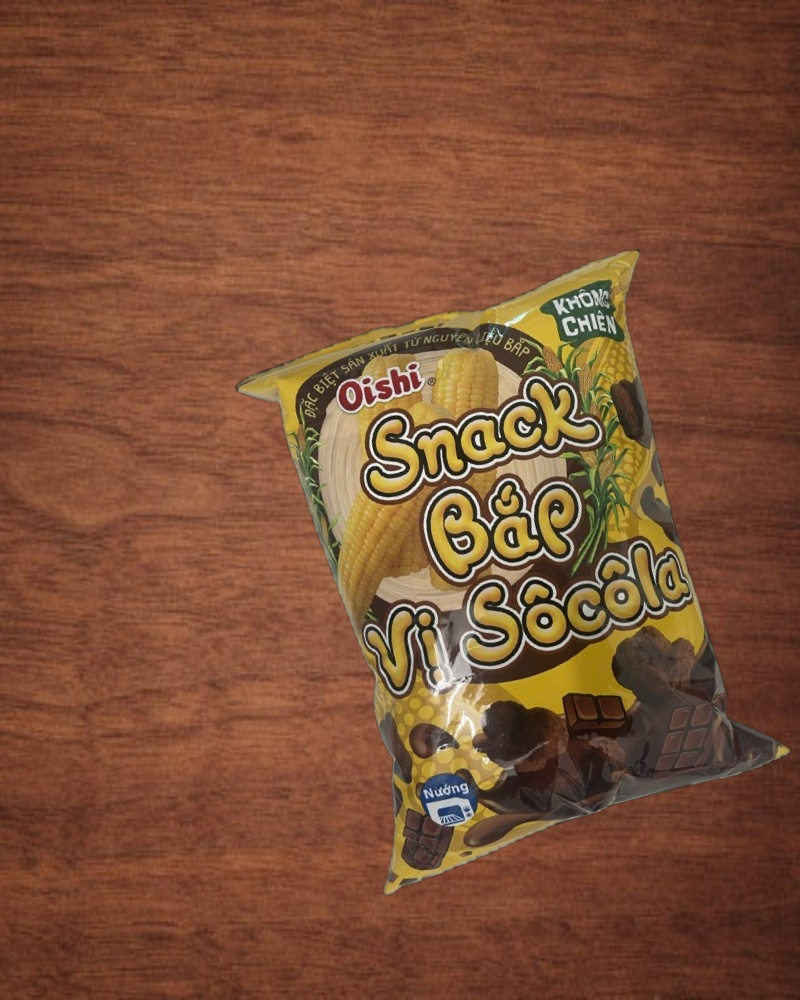Snack socola: (231, 247, 798, 887)
